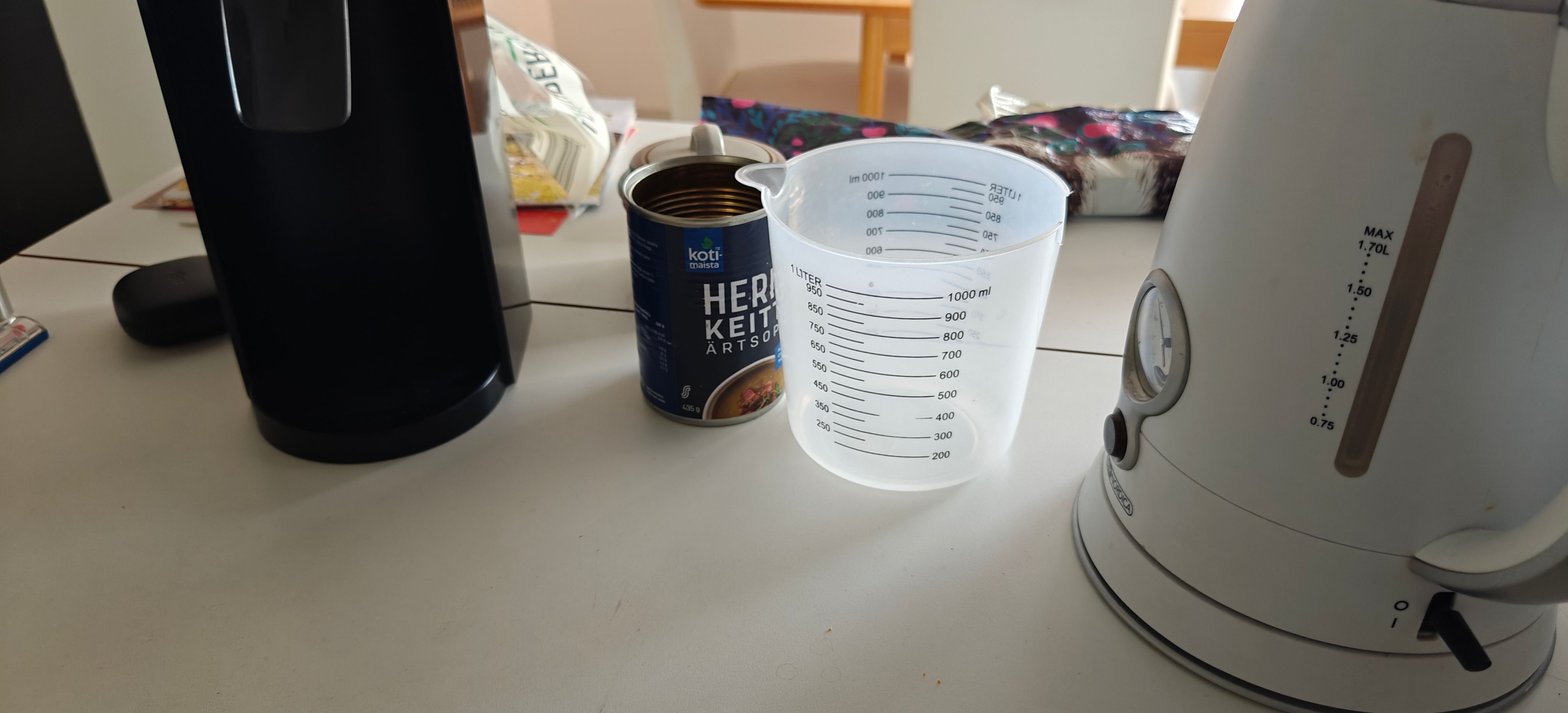Konservburk: (621, 155, 788, 427)
